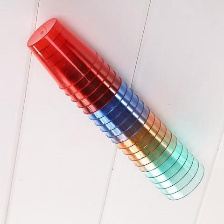glass: (23, 16, 206, 204)
